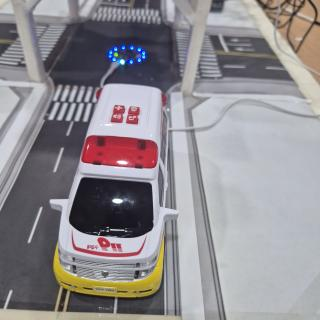Ambulance: (50, 84, 178, 297)
